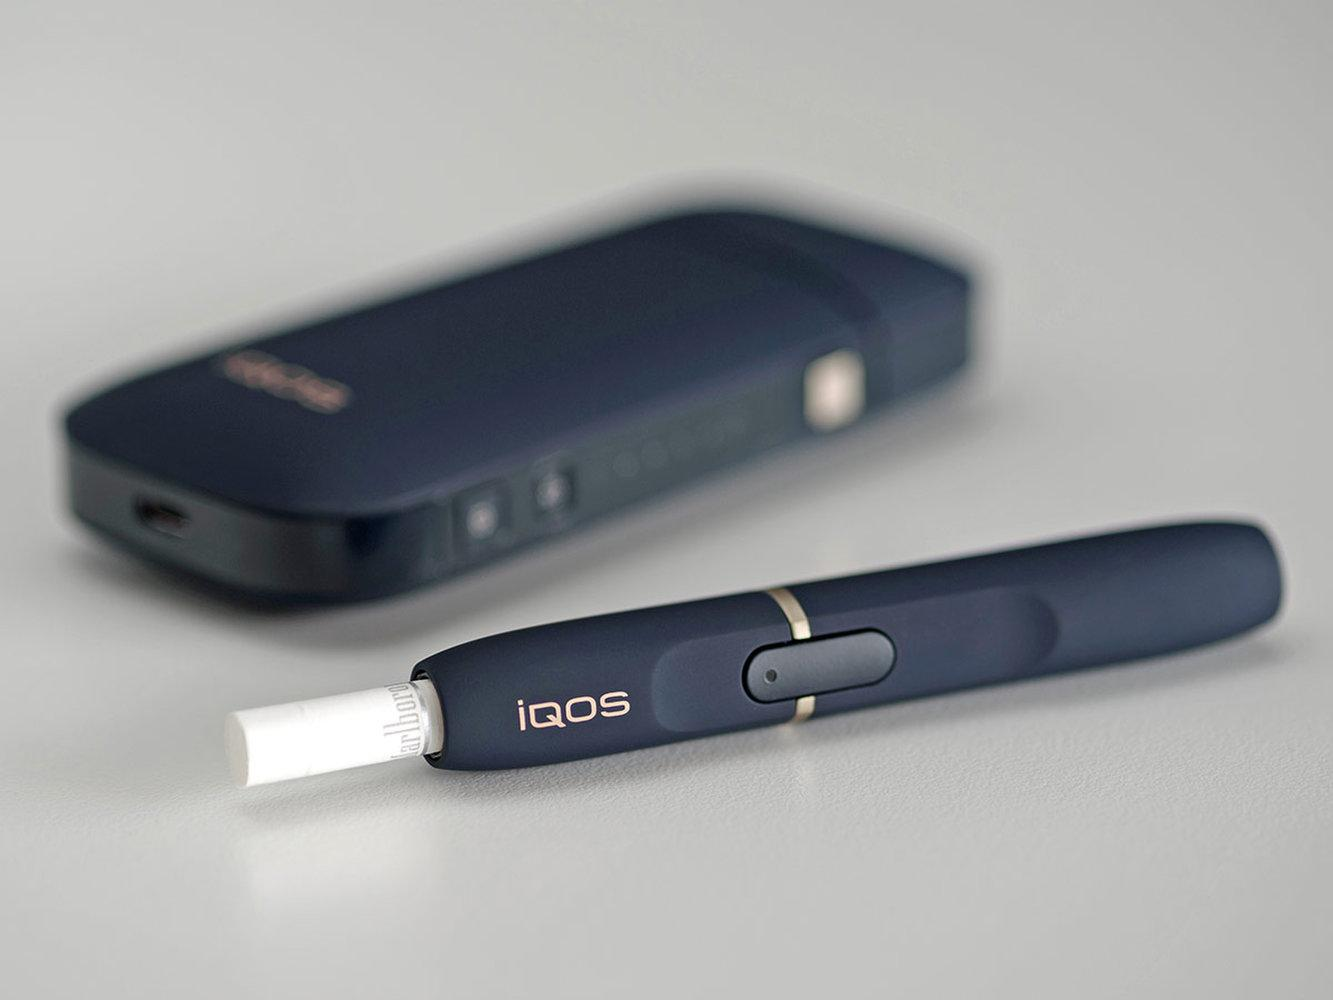iqos: (231, 522, 1279, 785)
